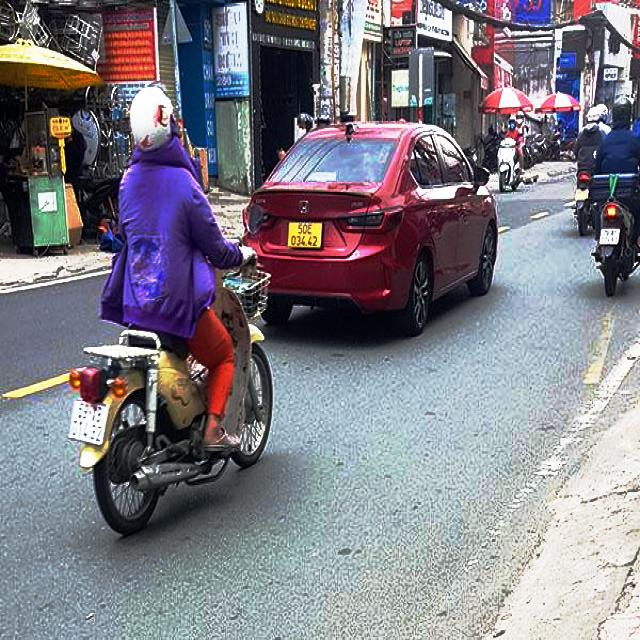license_plate: (70, 400, 109, 449), (289, 223, 323, 249)
